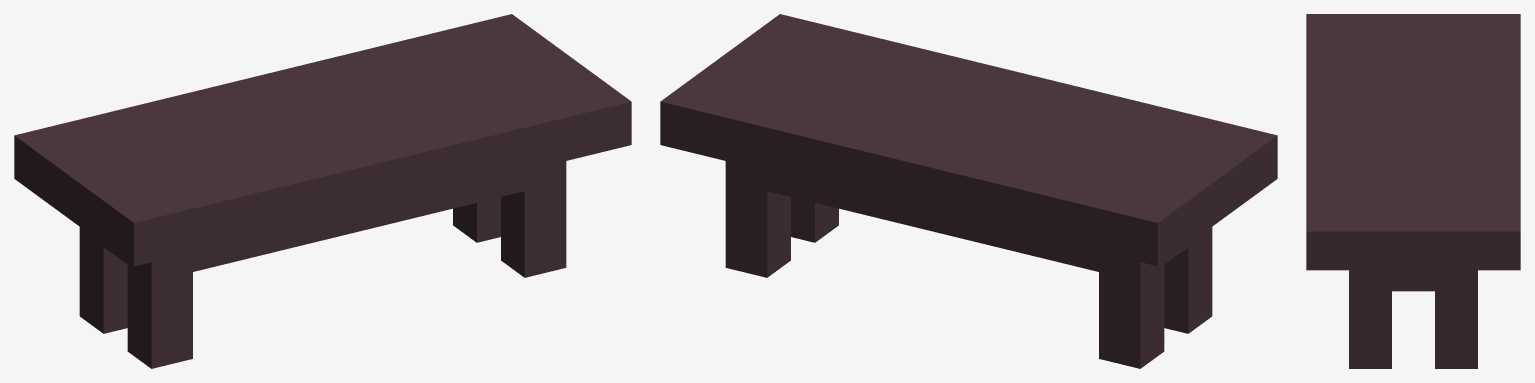
The model's file is large_bench_c.obj.
3 renders of one model, left to right at view 1: azimuth 30°, elevation 25°; view 2: azimuth 150°, elevation 25°; view 3: azimuth 270°, elevation 25°, orthographic. The views are drawn at different scales.
Size of the model in its own units: 1.2 by 0.4 by 0.5.
1 material, 1 textured.
